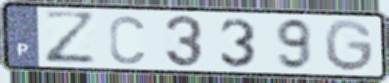3: (162, 13, 205, 69), (217, 16, 258, 69)
9: (273, 17, 315, 72)
C: (107, 13, 147, 66)
G: (322, 17, 376, 74)
Z: (40, 9, 100, 66)
